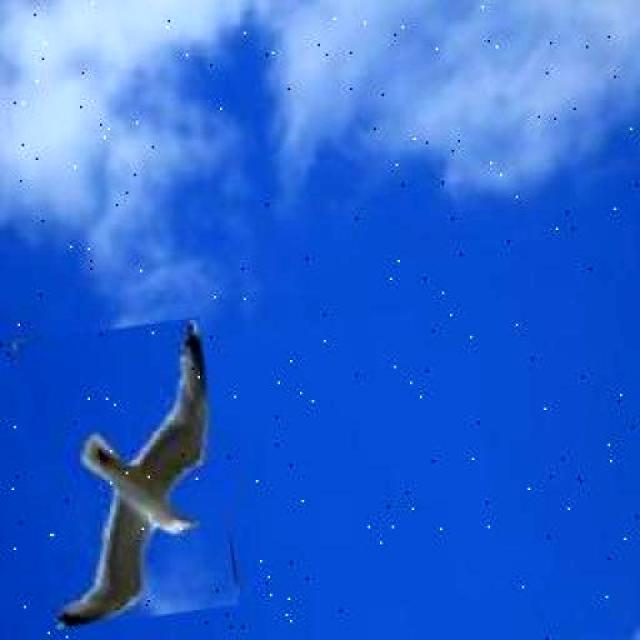airplane: (16, 318, 238, 629)
